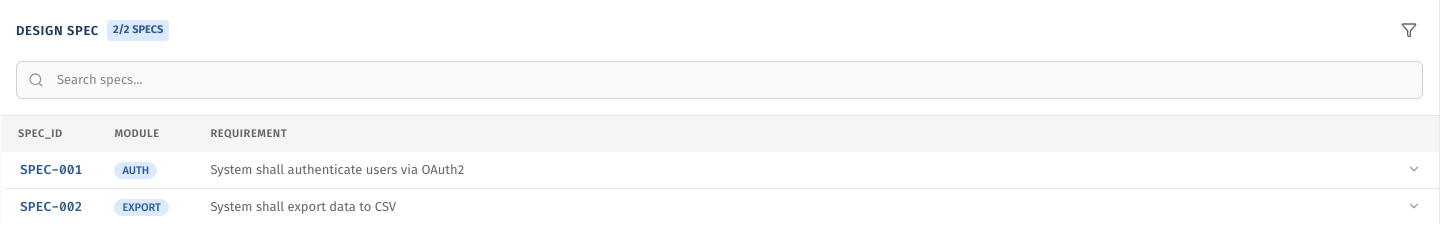
Test: SpecViewer › filters specs by search query
Type "AUTH" into the field with placeholder "Search specs..." at coordinates (720, 80), box [16, 61, 1423, 98]
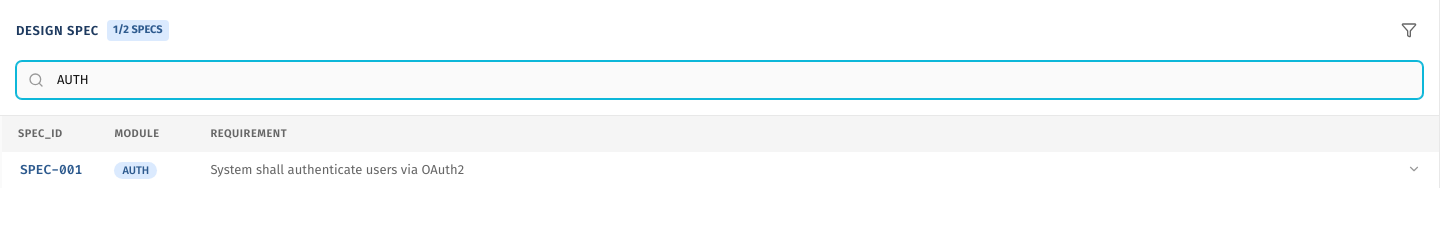
Check: the text "SPEC-001" is shown, box [20, 160, 82, 180]
Check: the text "SPEC-002" is gone
